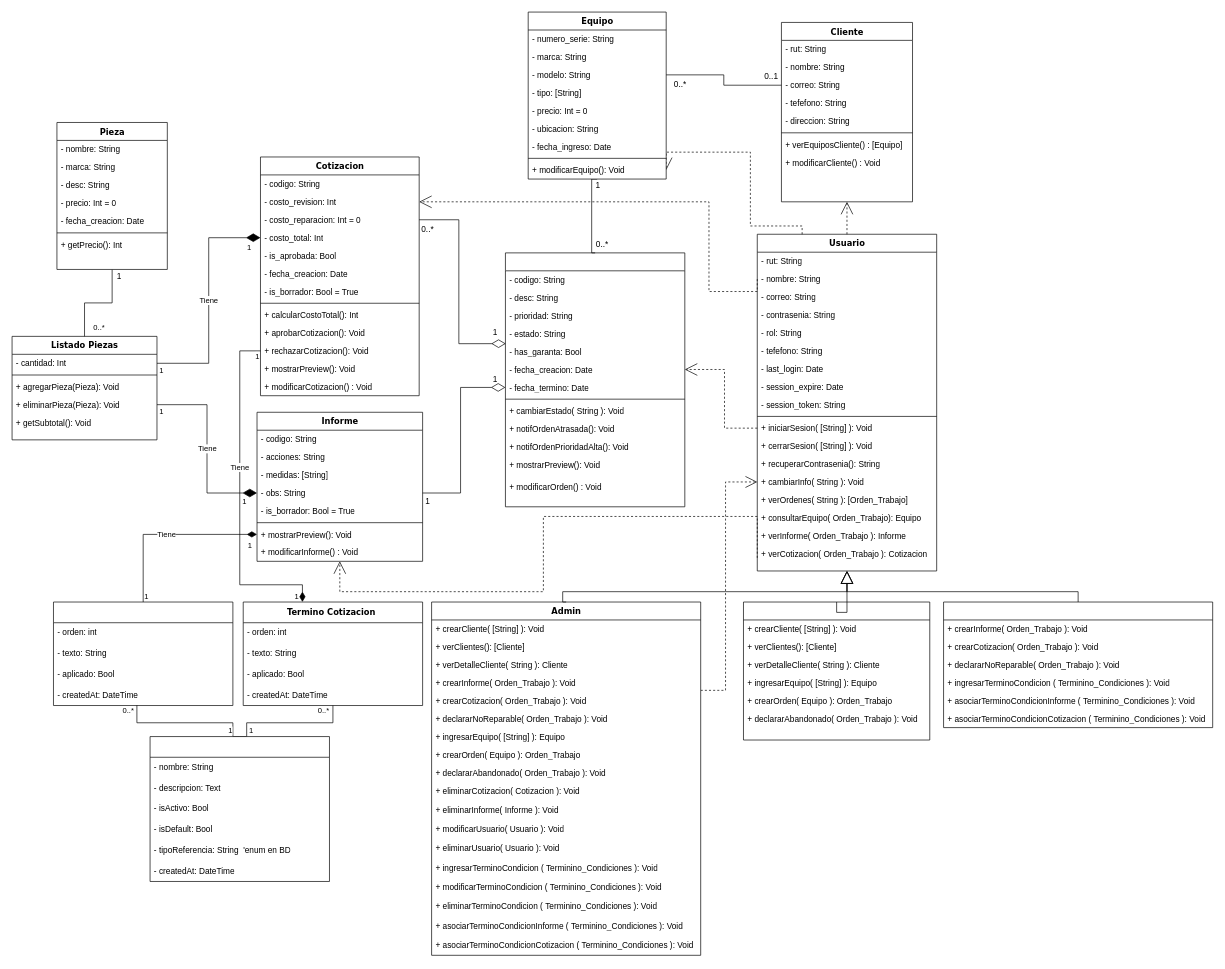
This 1225x969 diagram has some shape labels left out. Here are the shapes that lost their labels. From the top down, the box of each, then its label:
(505, 252, 685, 507): Orden Trabajo
(53, 601, 233, 706): Termino Informe
(743, 601, 930, 740): Recepcion
(943, 601, 1213, 728): Laboratorio
(149, 736, 329, 881): Termino Condiciones
